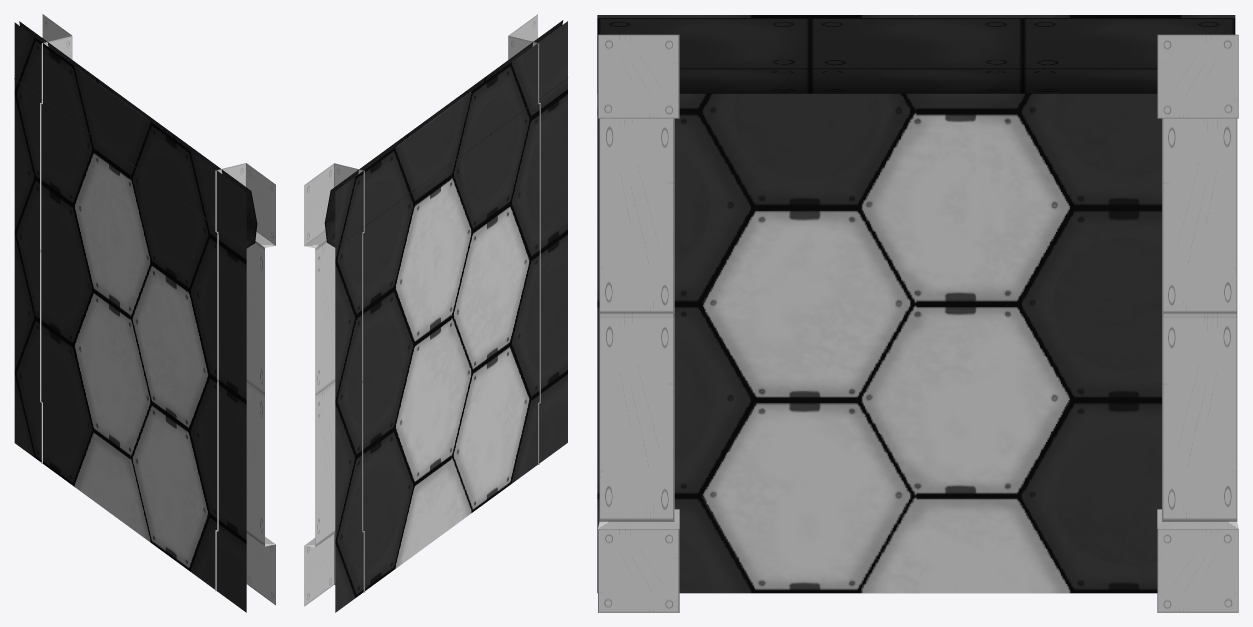
The model's file is Wall_UDown.fbx.
3 views of the same model, side by side, from view 1: azimuth 30°, elevation 25°; view 2: azimuth 150°, elevation 25°; view 3: azimuth 270°, elevation 25° (orthographic). The views are drawn at different scales.
Parts seen in each view (by area): view 1: pPlane143; view 2: pPlane143; view 3: pPlane143.
Boxes of the visible parts, <box> form: pPlane143: <box>14,14,275,612</box>; pPlane143: <box>304,14,567,612</box>; pPlane143: <box>597,15,1238,612</box>.
Size of the model in its own units: 0.1534 by 2 by 2.01.
